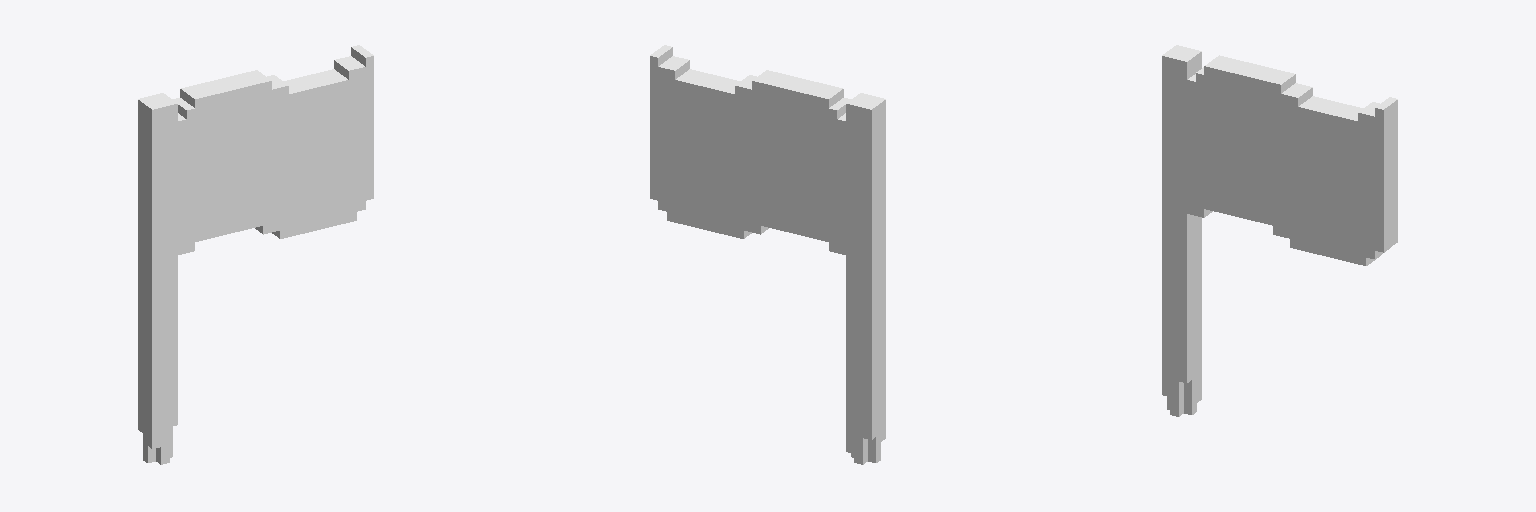
The model's file is flag1.obj.
3 views of the same model, side by side, from view 1: azimuth 30°, elevation 25°; view 2: azimuth 150°, elevation 25°; view 3: azimuth 330°, elevation 25° (orthographic).
Visible parts, largest first — view 1: object 1; view 2: object 1; view 3: object 1.
Boxes of the visible parts, <box> form: object 1: <box>138,45,373,464</box>; object 1: <box>650,45,885,464</box>; object 1: <box>1162,45,1397,416</box>.
Bounding box in the file's own units: 2.6 × 4 × 0.3.